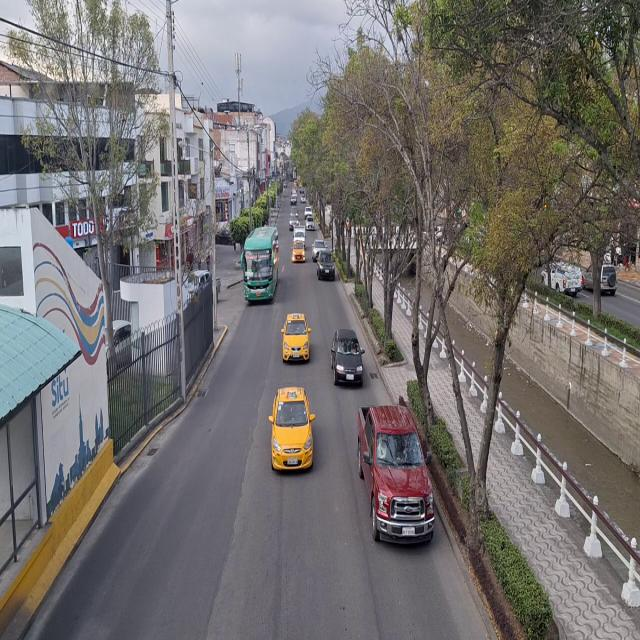BUS: (242, 225, 280, 302)
CMT: (355, 398, 432, 554)
SED: (270, 387, 316, 476)
